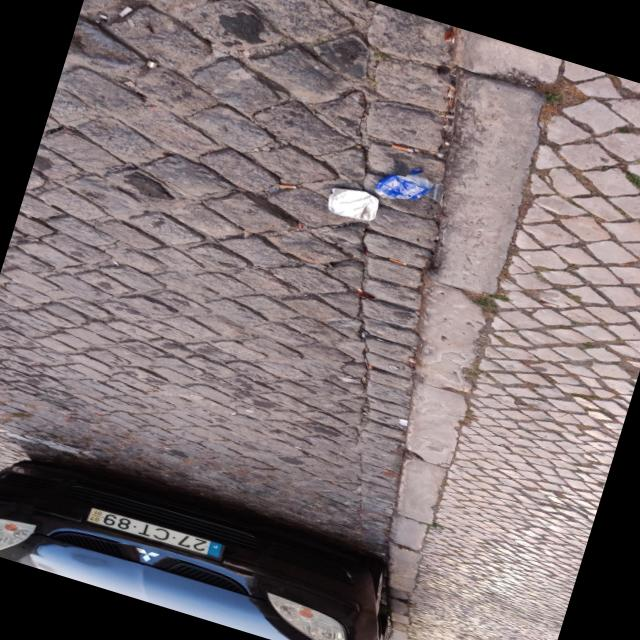less trash: (326, 187, 379, 221), (373, 170, 433, 199)
